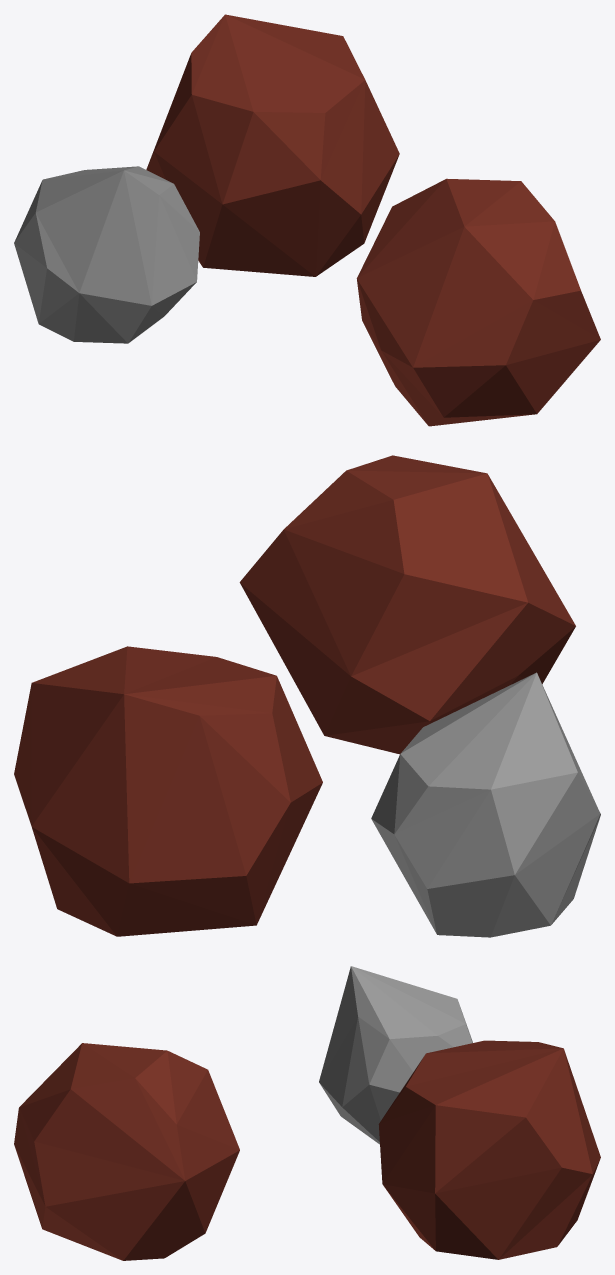
Rendered from Rock.obj.
3 views of the same model, one above another, from view 1: azimuth 30°, elevation 25°; view 2: azimuth 150°, elevation 25°; view 3: azimuth 270°, elevation 25° (orthographic). The views are drawn at different scales.
Visible parts, largest first — view 1: Sphere002, Sphere003, Sphere001; view 2: Sphere002, Sphere003, Sphere001; view 3: Sphere002, Sphere003, Sphere001.
Boxes of the visible parts, <box> form: Sphere002: <box>146,14,399,276</box>; Sphere003: <box>356,178,600,426</box>; Sphere001: <box>14,166,199,343</box>; Sphere002: <box>14,646,322,936</box>; Sphere003: <box>239,455,575,754</box>; Sphere001: <box>371,672,600,937</box>; Sphere002: <box>378,1040,600,1259</box>; Sphere003: <box>14,1043,239,1260</box>; Sphere001: <box>319,966,472,1144</box>.
Size of the model in its own units: 541 by 280 by 765.
